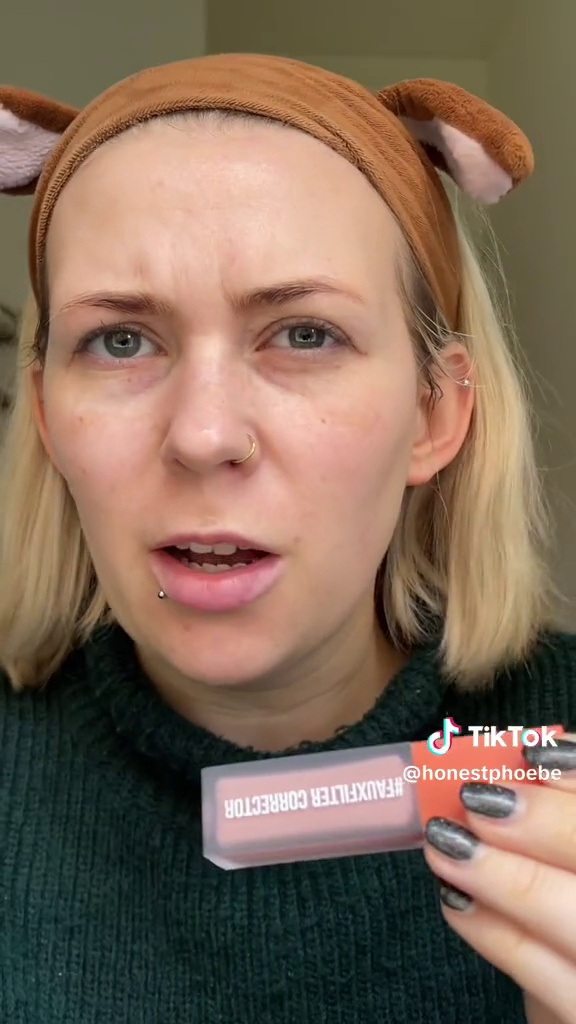train' :'yolo_data/train/images',: (195, 719, 574, 877)
